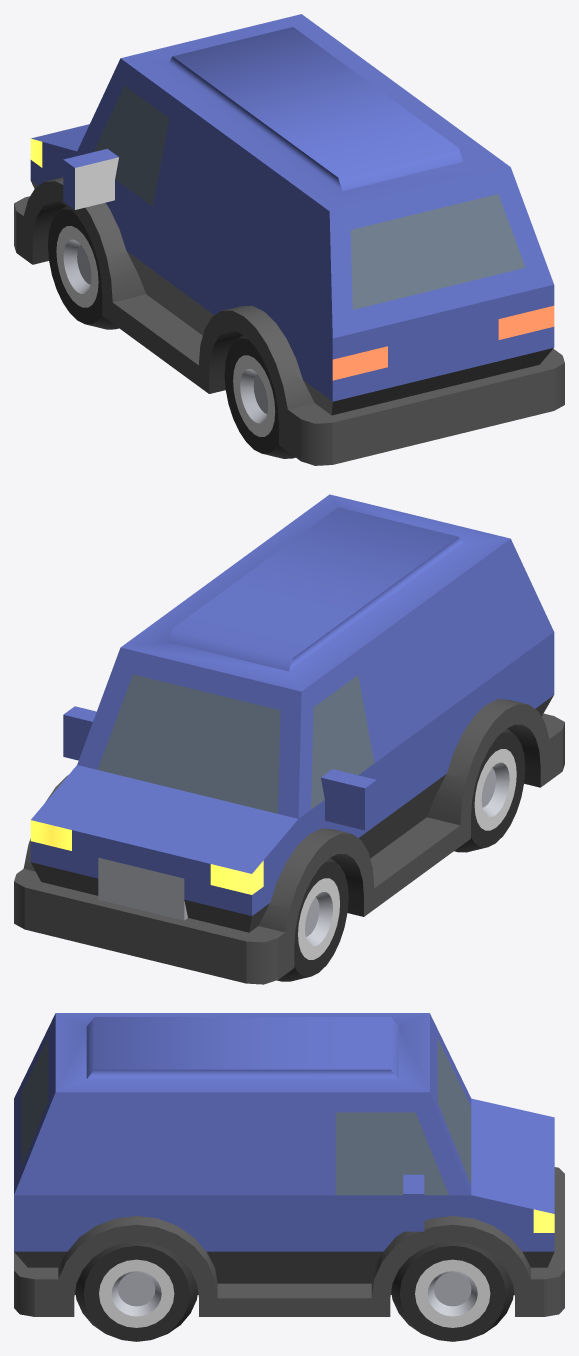
Rendered from van.glb.
The picture shows the model from 3 angles, top to bottom: view 1: azimuth 30°, elevation 25°; view 2: azimuth 150°, elevation 25°; view 3: azimuth 270°, elevation 25°; orthographic projection. The views are drawn at different scales.
Parts seen in each view (by area): view 1: body, wheel_frontLeft, wheel_backLeft; view 2: body, wheel_frontLeft, wheel_backLeft; view 3: body, wheel_backRight, wheel_frontRight.
Part boxes in pixels (<box>): body: <box>14,14,564,465</box>; wheel_frontLeft: <box>48,205,118,329</box>; wheel_backLeft: <box>224,334,295,458</box>; body: <box>14,494,564,984</box>; wheel_frontLeft: <box>277,857,348,981</box>; wheel_backLeft: <box>454,728,525,852</box>; body: <box>14,1013,564,1316</box>; wheel_backRight: <box>75,1241,197,1341</box>; wheel_frontRight: <box>391,1241,513,1341</box>.
Bounding box in the file's own units: 1.5 × 1.35 × 2.65.
